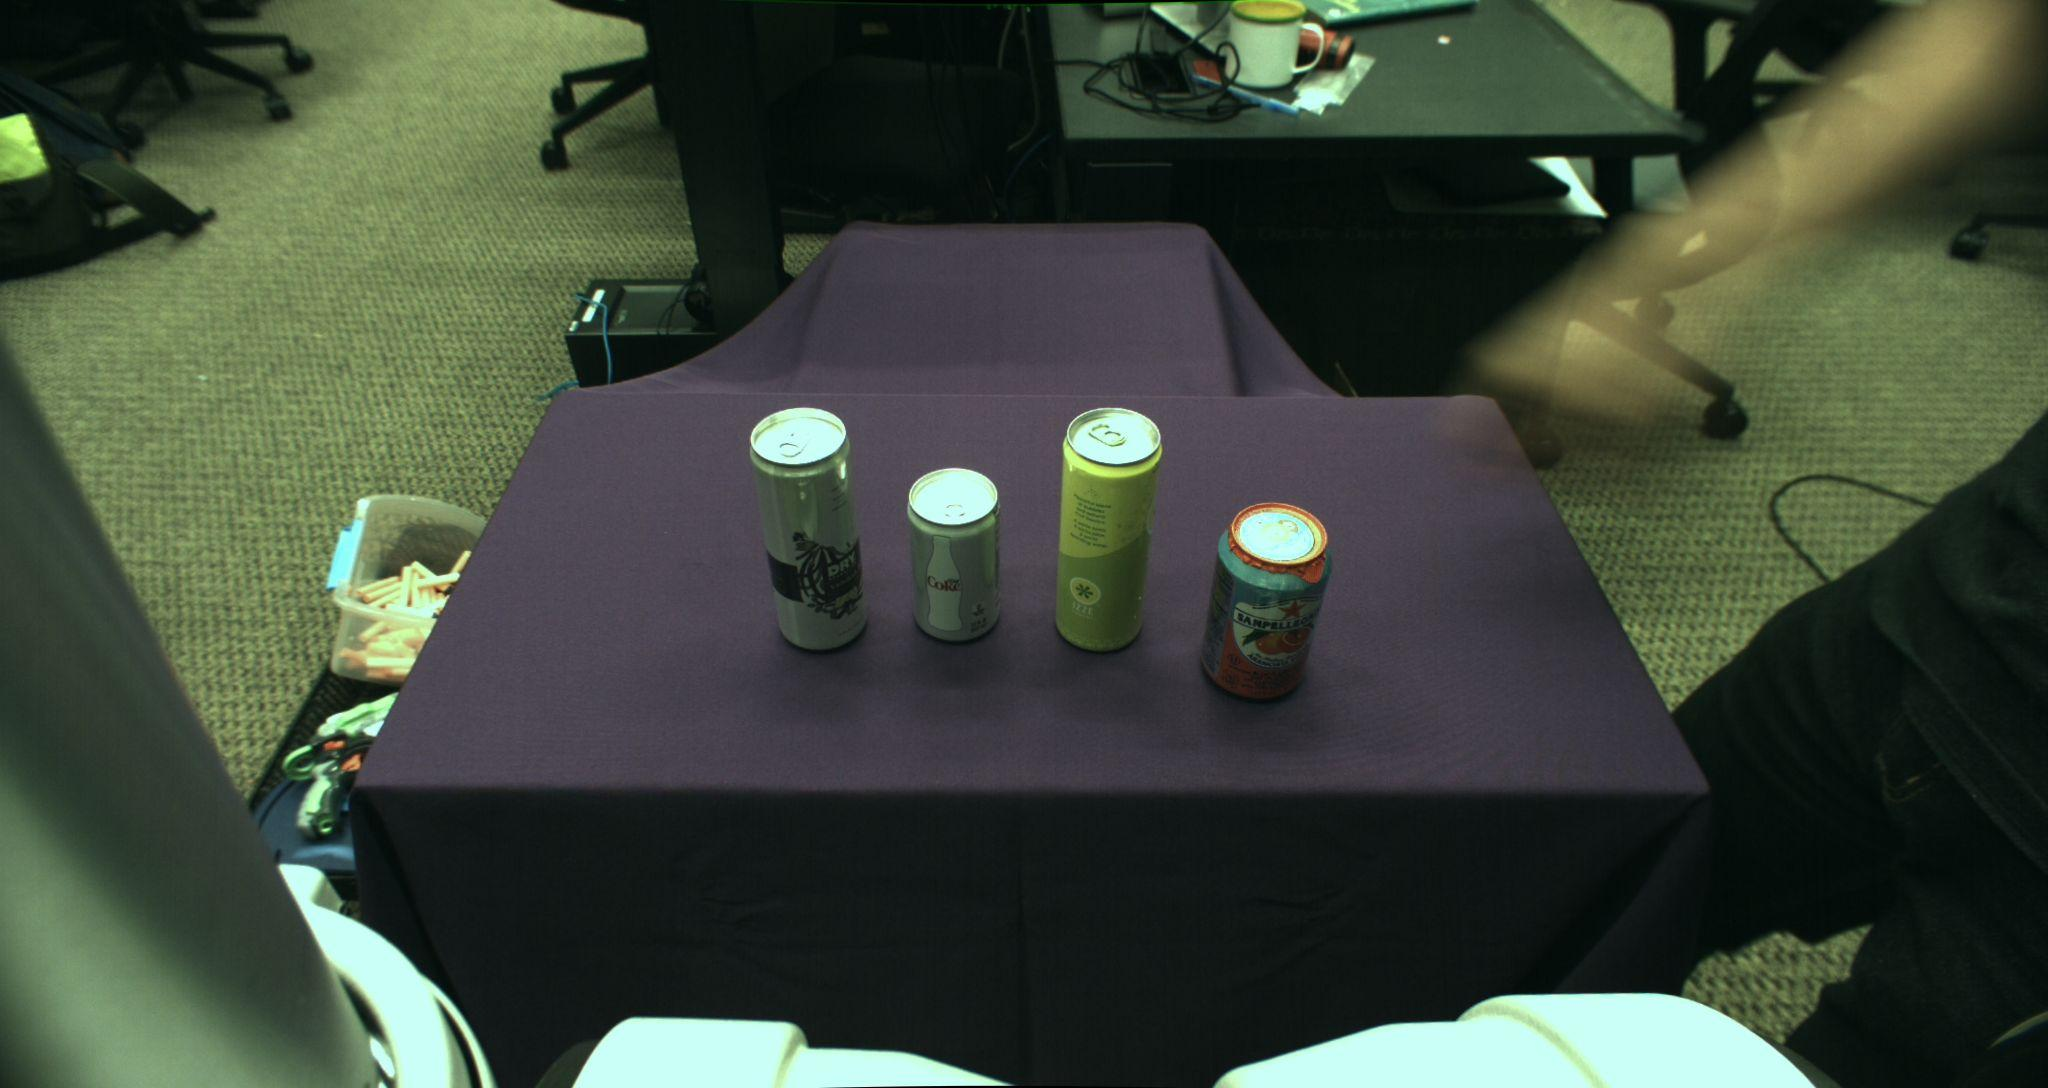can_diet_coke_small: (906, 466, 1004, 644)
can_dry_sparkling_vanilla_bean: (750, 406, 870, 652)
can_izze_fusions_lemon_lime: (1054, 406, 1164, 652)
can_sanpellegrino_blood_orange: (1197, 501, 1331, 705)
